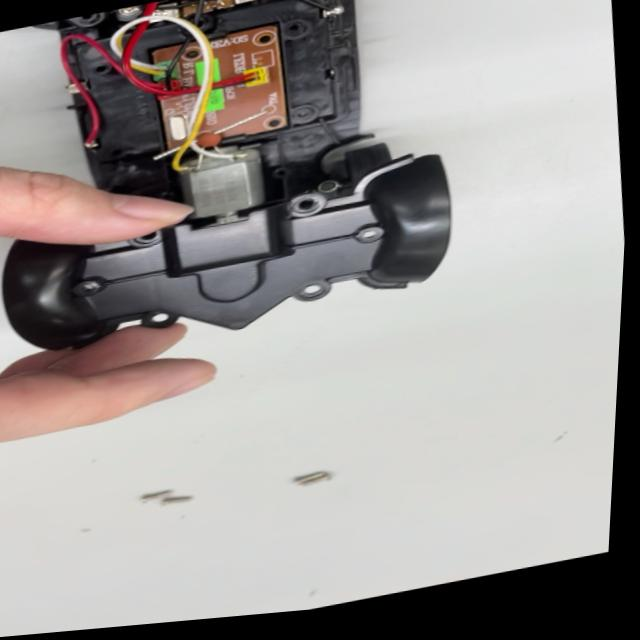motor_cover: (0, 152, 472, 365)
